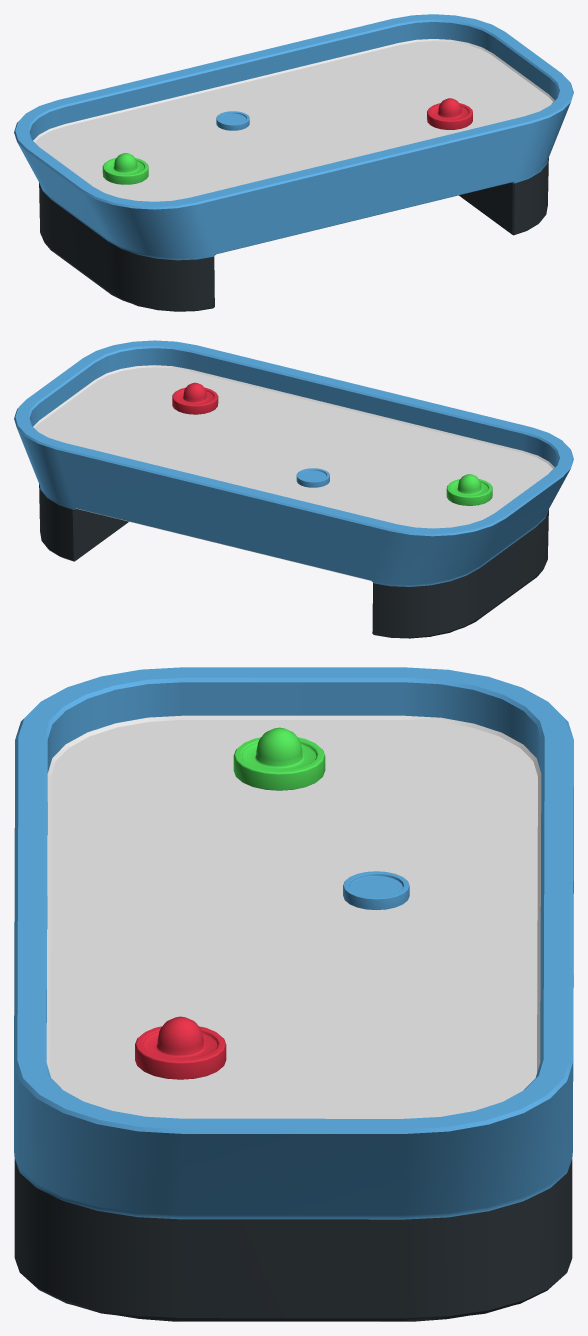
The model's file is AirHockey.fbx.
The picture shows the model from 3 angles, top to bottom: view 1: azimuth 30°, elevation 25°; view 2: azimuth 150°, elevation 25°; view 3: azimuth 270°, elevation 25°; orthographic projection. The views are drawn at different scales.
Visible parts, largest first — view 1: Air_Hockey; view 2: Air_Hockey; view 3: Air_Hockey.
Boxes of the visible parts, x1,y1,x2,y2 form: Air_Hockey: (14, 14, 573, 311); Air_Hockey: (14, 340, 573, 638); Air_Hockey: (14, 667, 573, 1321).
Size of the model in its own units: 586 by 130 by 299.
